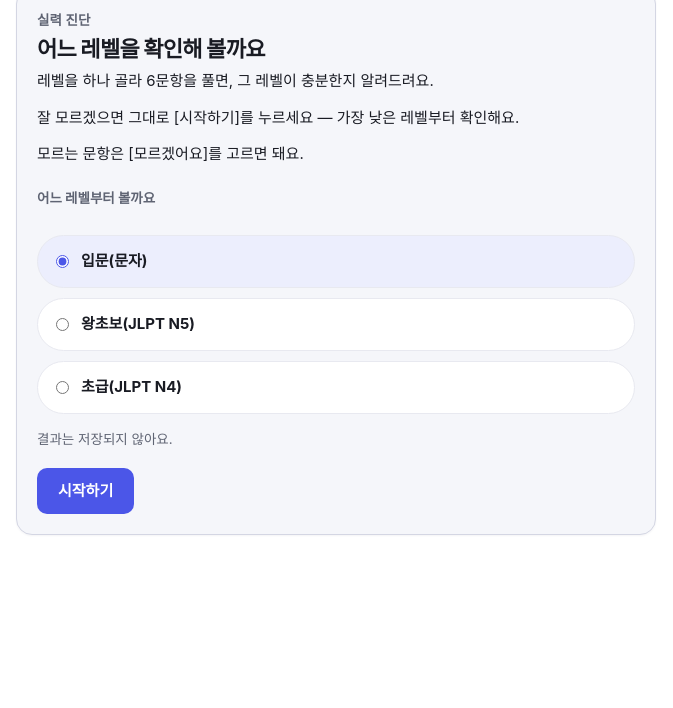
Test: 한 단계의 재료 조회 (QA 치명 1 · 08 B-7) › 문법 예문은 목록에서 받는다 — 문법 상세를 부르지 않는다
Click the button "시작하기" at (86, 491), box [37, 468, 134, 514]
(page scrolled)
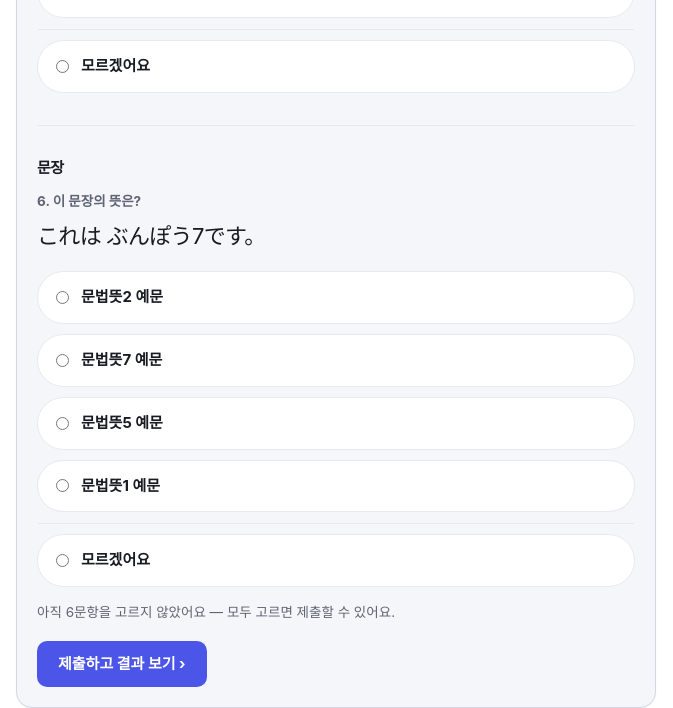
Expected: the button "제출하고 결과 보기 ›" is shown, [37, 641, 206, 687]
